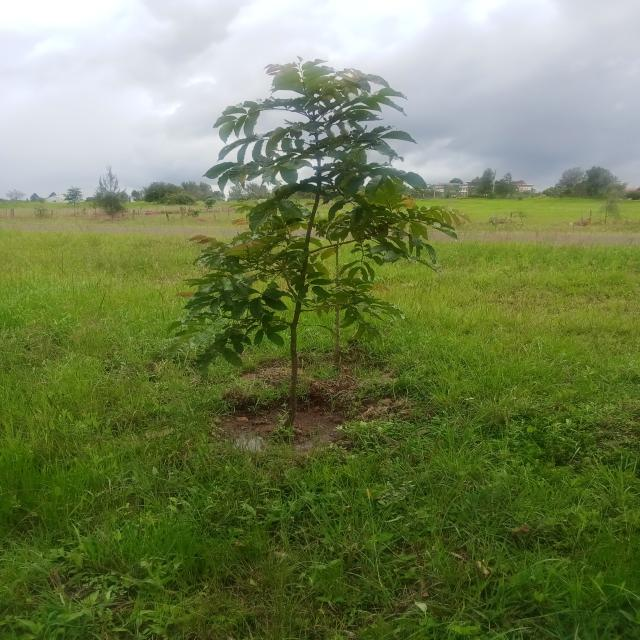Polyscias Kikuyensis: (201, 56, 468, 410)
